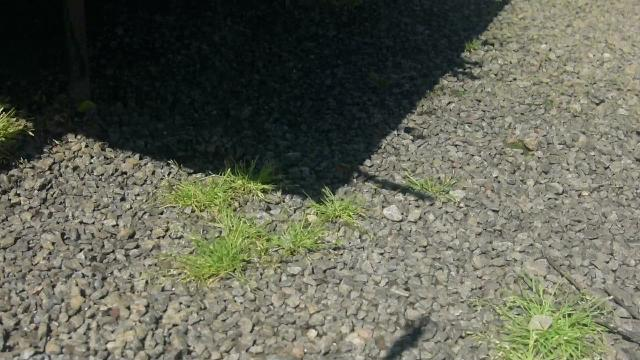MalezaMontesDelPlata: (473, 278, 619, 360), (142, 154, 304, 223), (169, 210, 266, 285), (390, 166, 469, 207), (270, 211, 335, 260), (305, 181, 371, 229), (0, 93, 32, 169)
